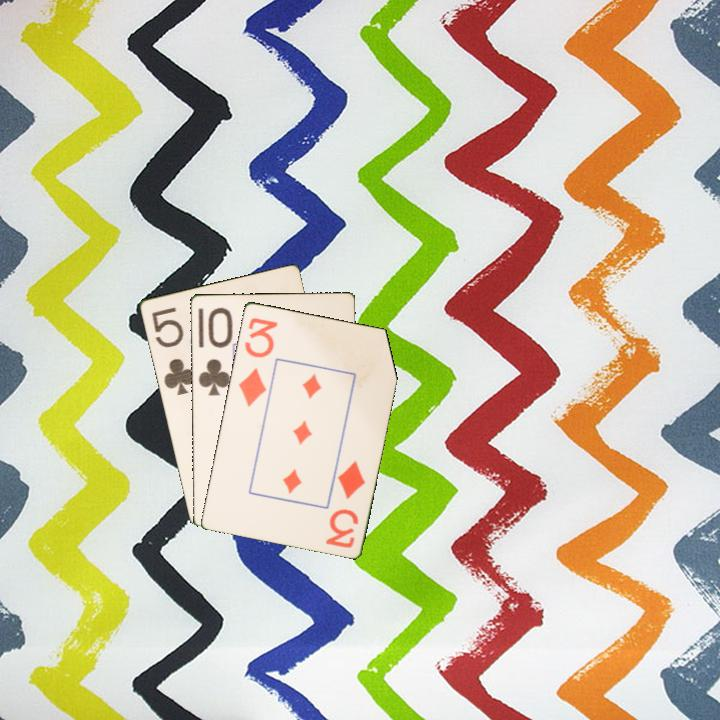10c: (195, 304, 233, 398)
3d: (322, 457, 368, 551), (235, 313, 280, 409)
5c: (148, 304, 198, 398)
